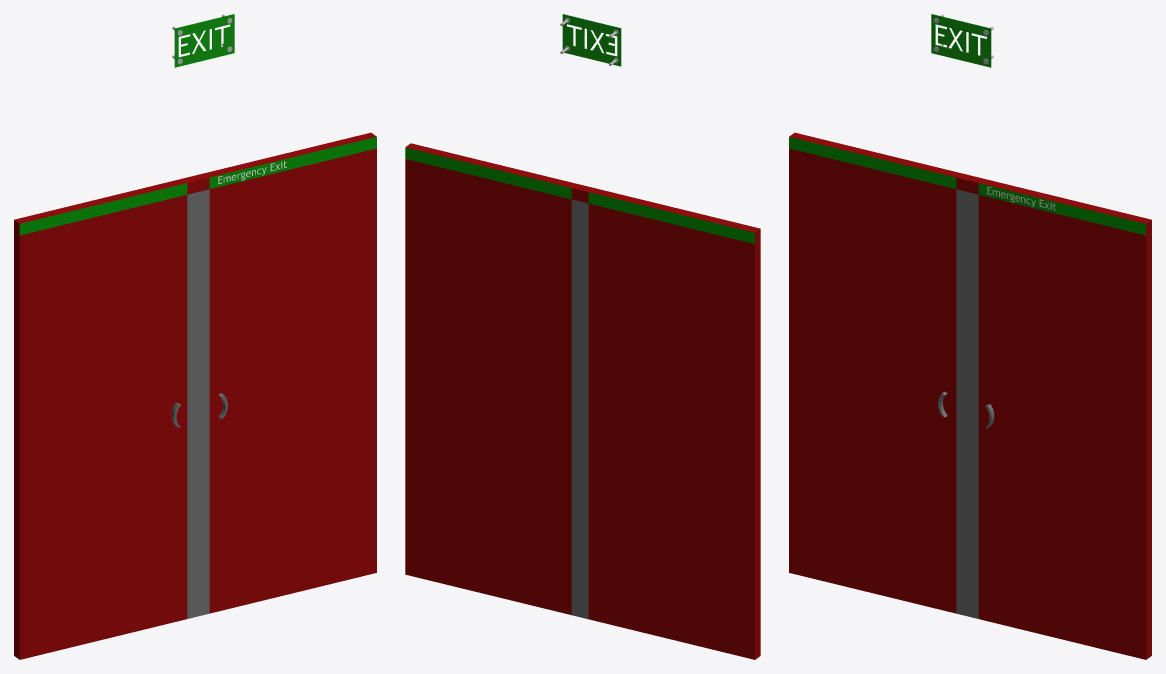
3 renders of one model, left to right at view 1: azimuth 30°, elevation 25°; view 2: azimuth 150°, elevation 25°; view 3: azimuth 330°, elevation 25°, orthographic. The views are drawn at different scales.
Visible parts, largest first — view 1: group_3 (×3), group_6 (×3), group_0; view 2: group_3 (×3), group_6 (×3), group_0; view 3: group_6 (×3), group_3 (×3), group_0.
Part boxes in pixels (box(x1,y1,x2,y2)): group_3 (×3): box(14, 176, 198, 659); group_6 (×3): box(193, 132, 376, 616); group_0: box(174, 14, 234, 67); group_3 (×3): box(580, 186, 760, 659); group_6 (×3): box(405, 143, 585, 616); group_0: box(562, 14, 621, 66); group_6 (×3): box(967, 176, 1151, 659); group_3 (×3): box(789, 132, 972, 616); group_0: box(931, 14, 991, 67).
Bounding box in the file's own units: 72 × 4.38 × 116.
